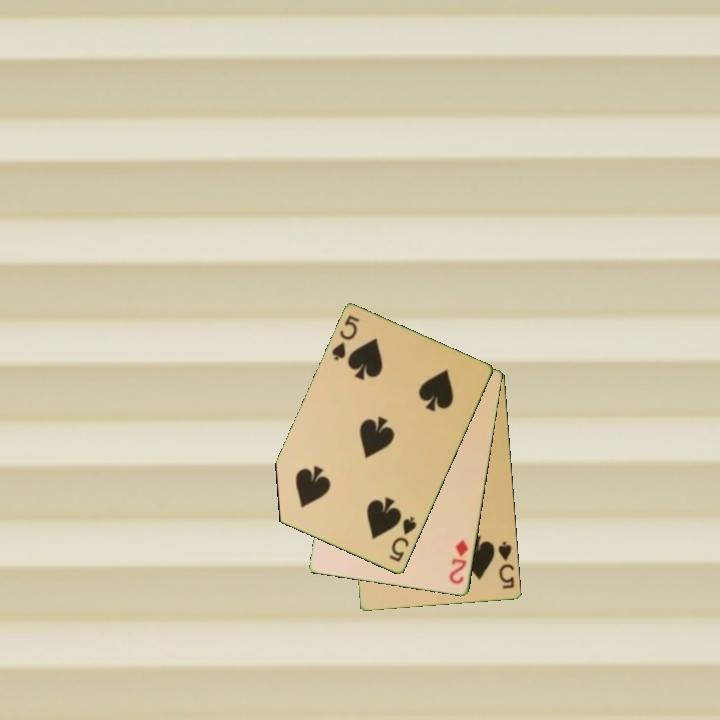2d: (446, 536, 471, 587)
5s: (385, 514, 420, 565), (328, 312, 362, 364), (495, 538, 518, 592)
